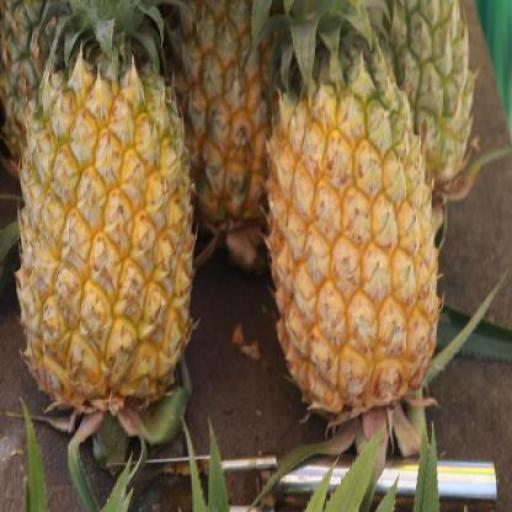Pineapple - v8 v1: (268, 78, 441, 404), (24, 72, 191, 403)
